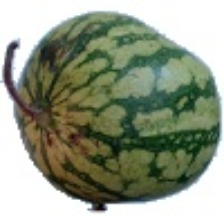watermelon: (58, 42, 202, 208)
